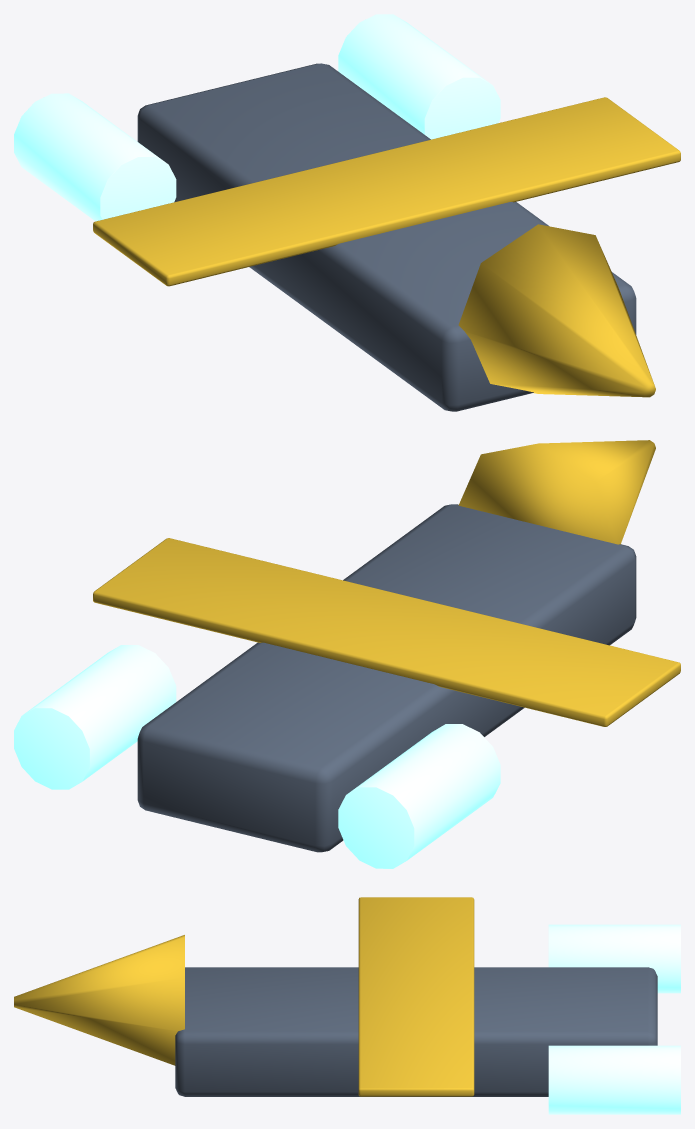
The model's file is prop_dropship.glb.
3 views of the same model, one above another, from view 1: azimuth 30°, elevation 25°; view 2: azimuth 150°, elevation 25°; view 3: azimuth 270°, elevation 25° (orthographic). The views are drawn at different scales.
Parts seen in each view (by area): view 1: hull_main, solar_wings, dragon_prow, engine_-1, engine_1; view 2: hull_main, solar_wings, engine_-1, dragon_prow, engine_1; view 3: hull_main, solar_wings, dragon_prow, engine_1, engine_-1.
Boxes of the visible parts, x1,y1,x2,y2 form: hull_main: (137, 63, 636, 411); solar_wings: (93, 97, 680, 286); dragon_prow: (458, 224, 655, 397); engine_-1: (14, 93, 176, 221); engine_1: (338, 14, 500, 139); hull_main: (137, 504, 636, 852); solar_wings: (93, 538, 680, 726); engine_-1: (338, 724, 500, 868); dragon_prow: (458, 440, 655, 544); engine_1: (14, 645, 176, 789); hull_main: (175, 967, 657, 1096); solar_wings: (358, 897, 474, 1096); dragon_prow: (14, 935, 184, 1065); engine_1: (548, 1045, 680, 1114); engine_-1: (548, 924, 680, 993).
Size of the model in its own units: 16.5 by 5.2 by 24.2.
